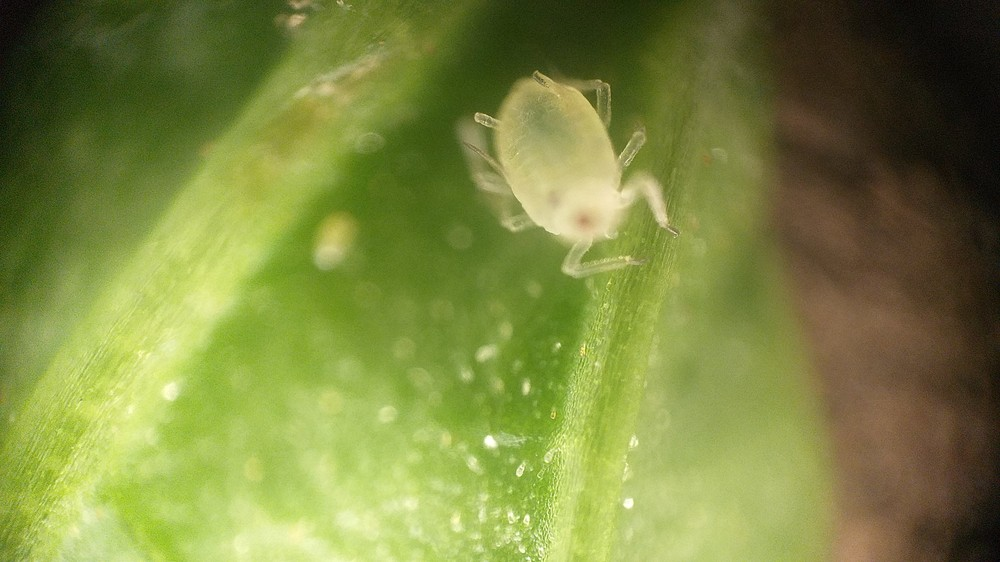Pulgon: (440, 49, 705, 301)
